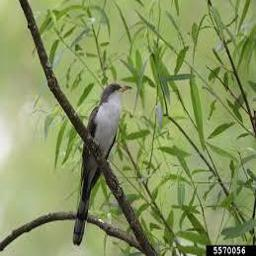Cuckoo: (72, 84, 131, 246)
